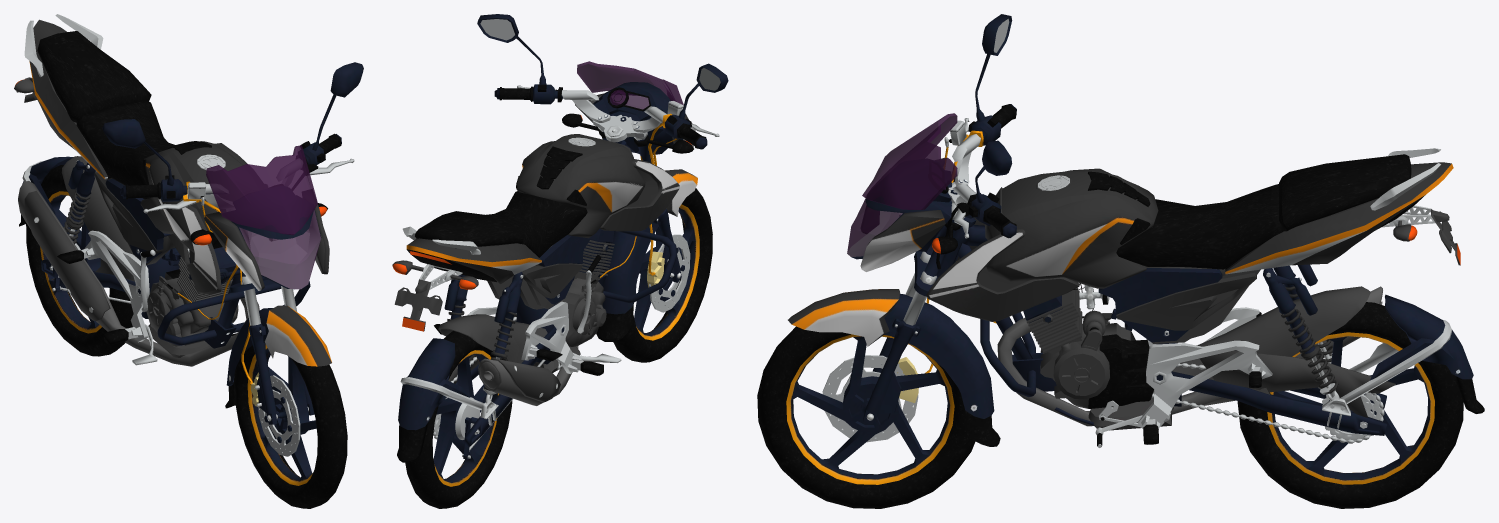
3 renders of one model, left to right at view 1: azimuth 30°, elevation 25°; view 2: azimuth 150°, elevation 25°; view 3: azimuth 270°, elevation 25°, orthographic. The views are drawn at different scales.
Visible parts, largest first — view 1: body, wheel_f, wheel_r; view 2: body, wheel_r, wheel_f; view 3: body, wheel_f, wheel_r.
Part boxes in pixels (x1=…): body: x1=14, y1=14, x2=363, y2=408; wheel_f: x1=234, y1=324, x2=347, y2=508; wheel_r: x1=26, y1=165, x2=133, y2=356; body: x1=392, y1=14, x2=728, y2=462; wheel_r: x1=405, y1=330, x2=512, y2=508; wheel_f: x1=613, y1=188, x2=712, y2=362; body: x1=788, y1=14, x2=1484, y2=447; wheel_f: x1=757, y1=318, x2=975, y2=508; wheel_r: x1=1237, y1=302, x2=1463, y2=508.
Size of the model in its own units: 0.9552 by 1.29 by 2.
7 materials, 6 textured.
